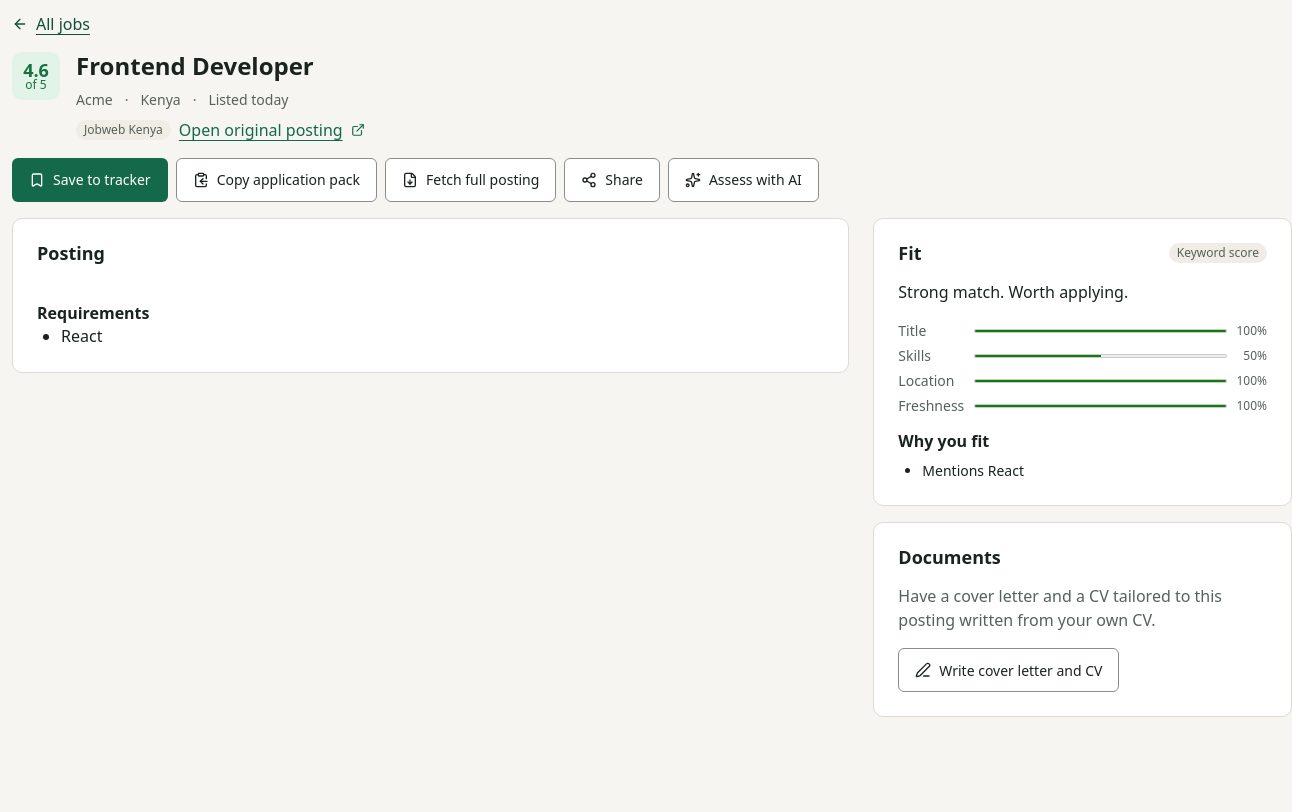
Test: JobDetailPage › shows the model's failure instead of pretending documents were written
The image size is (1292, 812).
Step 1. Click the button "Write cover letter and CV" → (1009, 670), box [898,648,1120,692]
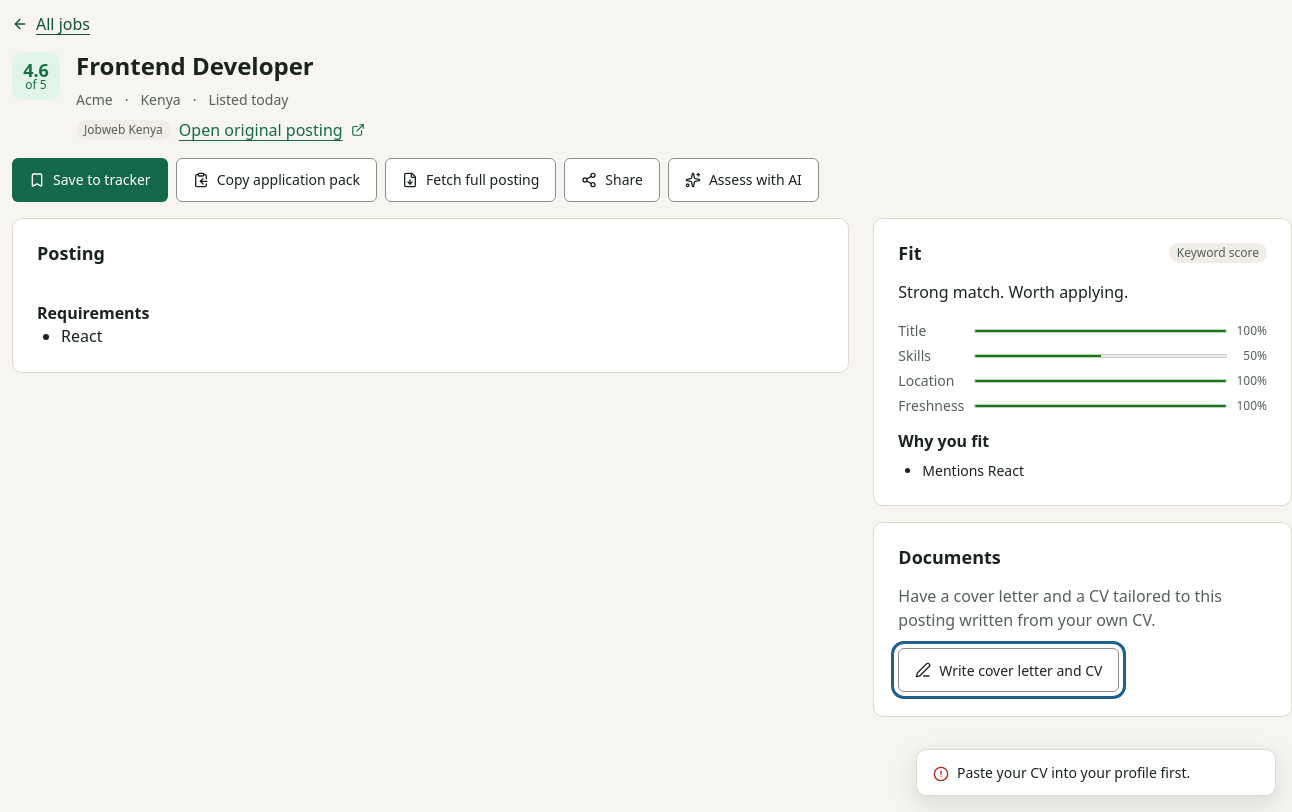
Check: the text "Paste your CV into your profile first." is shown, box [957,762,1190,783]
